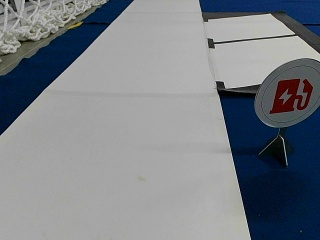battery: (255, 56, 319, 128)
